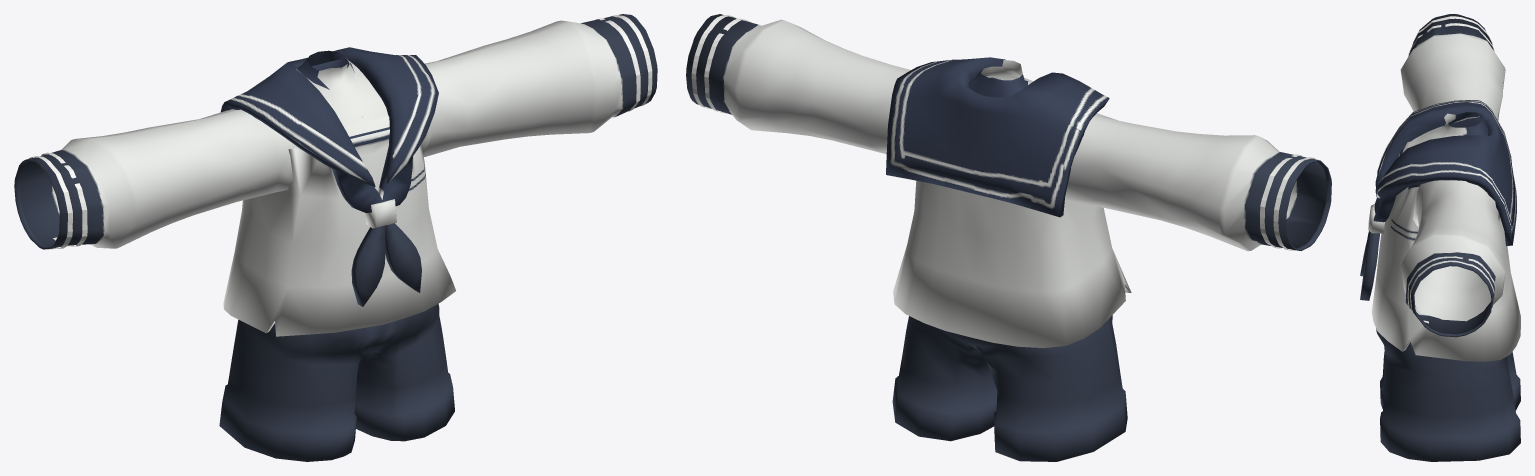
The model's file is sailor-painted-outfit.glb.
3 views of the same model, side by side, from view 1: azimuth 30°, elevation 25°; view 2: azimuth 150°, elevation 25°; view 3: azimuth 270°, elevation 25° (orthographic). The views are drawn at different scales.
Visible parts, largest first — view 1: Sailor_top, Sailor_pants; view 2: Sailor_top, Sailor_pants; view 3: Sailor_top, Sailor_pants.
Part boxes in pixels (x1=…): Sailor_top: x1=14, y1=14, x2=657, y2=336; Sailor_pants: x1=219, y1=304, x2=454, y2=461; Sailor_top: x1=686, y1=14, x2=1331, y2=348; Sailor_pants: x1=892, y1=315, x2=1127, y2=461; Sailor_top: x1=1360, y1=14, x2=1520, y2=361; Sailor_pants: x1=1376, y1=328, x2=1520, y2=461.
Size of the model in its own units: 2.82 by 1.61 by 0.7638.
1 material, 1 textured.
